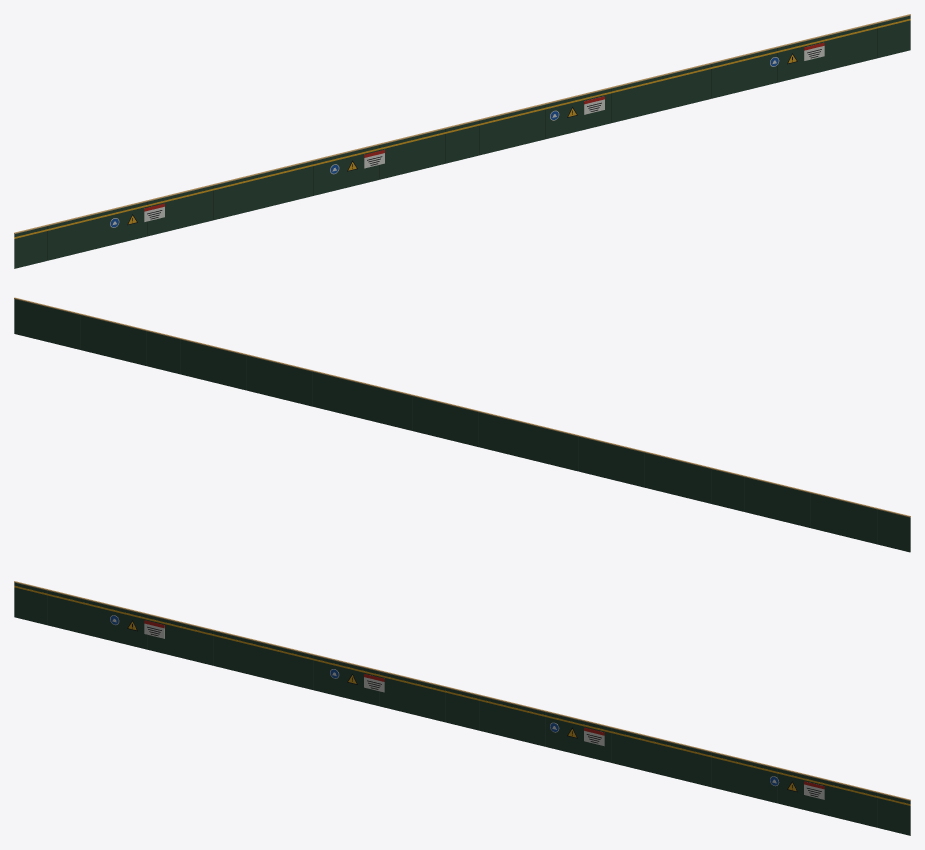
File: gs-hoarding.glb
3 renders of one model, top to bottom at view 1: azimuth 30°, elevation 25°; view 2: azimuth 150°, elevation 25°; view 3: azimuth 330°, elevation 25°, orthographic.
Parts seen in each view (by area): view 1: gs-hoarding; view 2: gs-hoarding; view 3: gs-hoarding.
Part boxes in pixels (x1,y1,x2,y2): gs-hoarding: (14,14,910,268); gs-hoarding: (14,297,910,552); gs-hoarding: (14,581,910,835).
Bounding box in the file's own units: 65.2 × 2.5 × 0.09.
